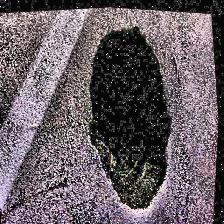pothole: (74, 16, 190, 216)
